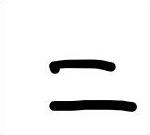eqv: (49, 60, 137, 111)
